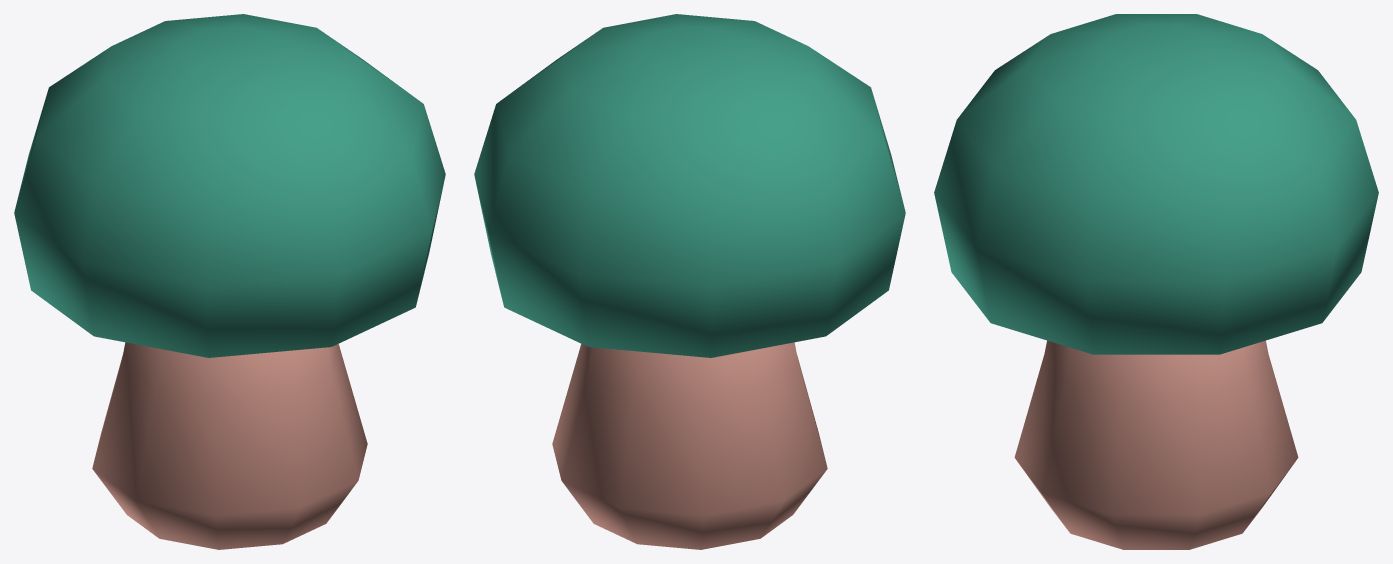
File: Mushroom_Turquoise_4.fbx
3 renders of one model, left to right at view 1: azimuth 30°, elevation 25°; view 2: azimuth 150°, elevation 25°; view 3: azimuth 270°, elevation 25°, orthographic.
Parts seen in each view (by area): view 1: Cylinder.555, Cylinder.554; view 2: Cylinder.555, Cylinder.554; view 3: Cylinder.555, Cylinder.554.
Boxes of the visible parts, left/top/right/bottom form: Cylinder.555: left=14, top=14, right=445, bottom=357; Cylinder.554: left=92, top=342, right=367, bottom=549; Cylinder.555: left=474, top=14, right=905, bottom=357; Cylinder.554: left=552, top=342, right=827, bottom=549; Cylinder.555: left=934, top=14, right=1378, bottom=354; Cylinder.554: left=1014, top=340, right=1298, bottom=549.
Bounding box in the file's own units: 77.71 × 93.28 × 81.71.
